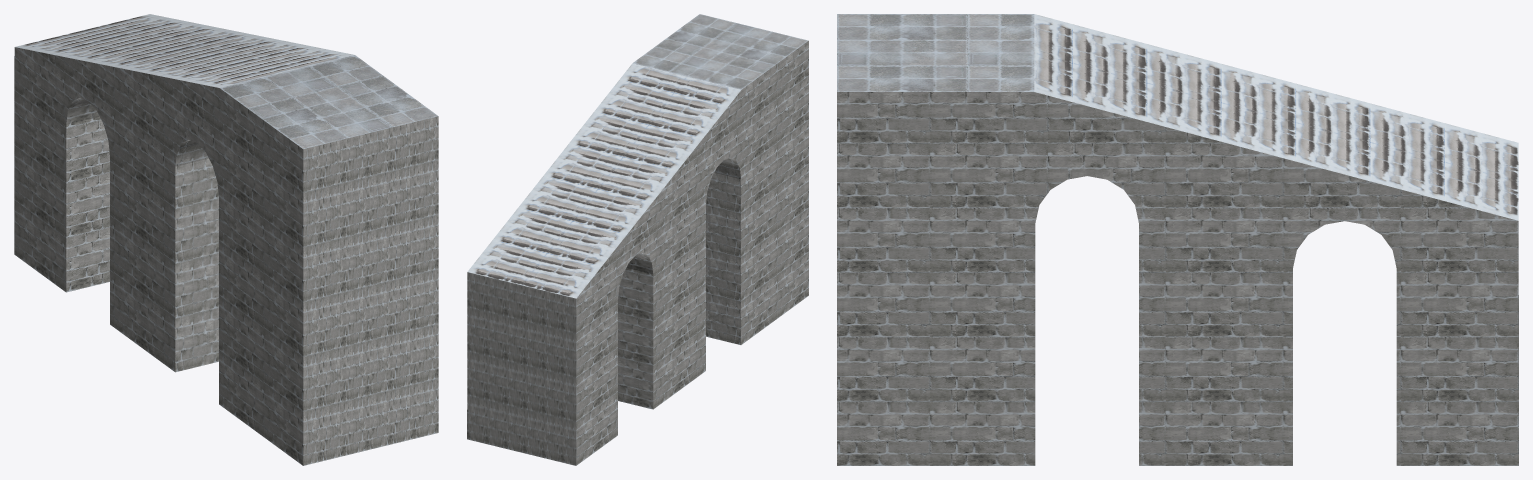
Rendered from jz_taijie_04.FBX.
3 views of the same model, side by side, from view 1: azimuth 30°, elevation 25°; view 2: azimuth 150°, elevation 25°; view 3: azimuth 270°, elevation 25° (orthographic). The views are drawn at different scales.
Parts seen in each view (by area): view 1: jz_taijie_04; view 2: jz_taijie_04; view 3: jz_taijie_04.
Boxes of the visible parts, x1=… form: jz_taijie_04: x1=14, y1=14, x2=438, y2=465; jz_taijie_04: x1=467, y1=14, x2=808, y2=465; jz_taijie_04: x1=837, y1=14, x2=1518, y2=465.
Bounding box in the file's own units: 362 × 810 × 1338.
